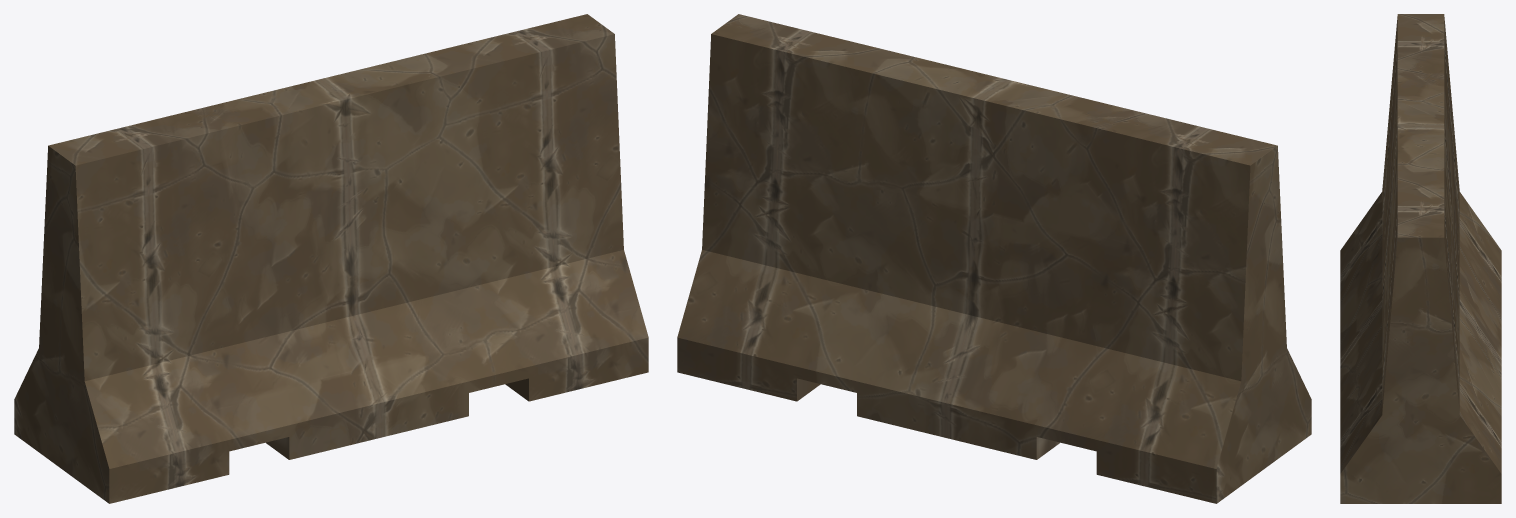
3 renders of one model, left to right at view 1: azimuth 30°, elevation 25°; view 2: azimuth 150°, elevation 25°; view 3: azimuth 270°, elevation 25°, orthographic. The views are drawn at different scales.
Parts seen in each view (by area): view 1: prop_barricade; view 2: prop_barricade; view 3: prop_barricade.
Part boxes in pixels (x1,y1,x2,y2): prop_barricade: (14, 14, 648, 503); prop_barricade: (677, 14, 1311, 503); prop_barricade: (1340, 14, 1501, 503).
Size of the model in its own units: 0.2 by 0.1111 by 0.0611.
Materials: 1 (1 with a texture image).
